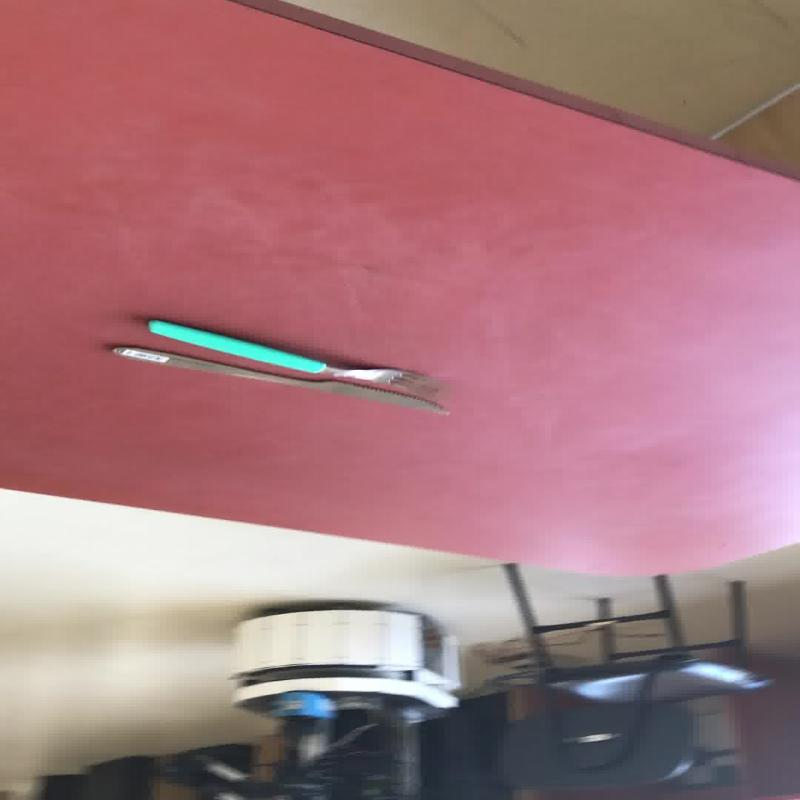fork: (143, 317, 440, 391)
knife: (143, 316, 442, 397), (109, 344, 449, 414)
